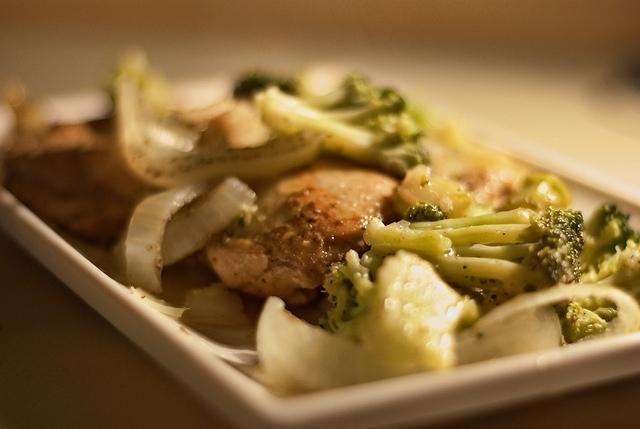broccoli: (360, 206, 584, 305), (318, 250, 486, 373), (262, 71, 430, 179), (579, 201, 640, 273), (579, 239, 640, 284), (231, 68, 298, 98), (562, 302, 608, 344), (407, 200, 448, 223)
onion: (118, 72, 327, 188), (255, 295, 419, 398), (472, 283, 638, 342), (126, 181, 210, 294), (161, 176, 256, 268)
